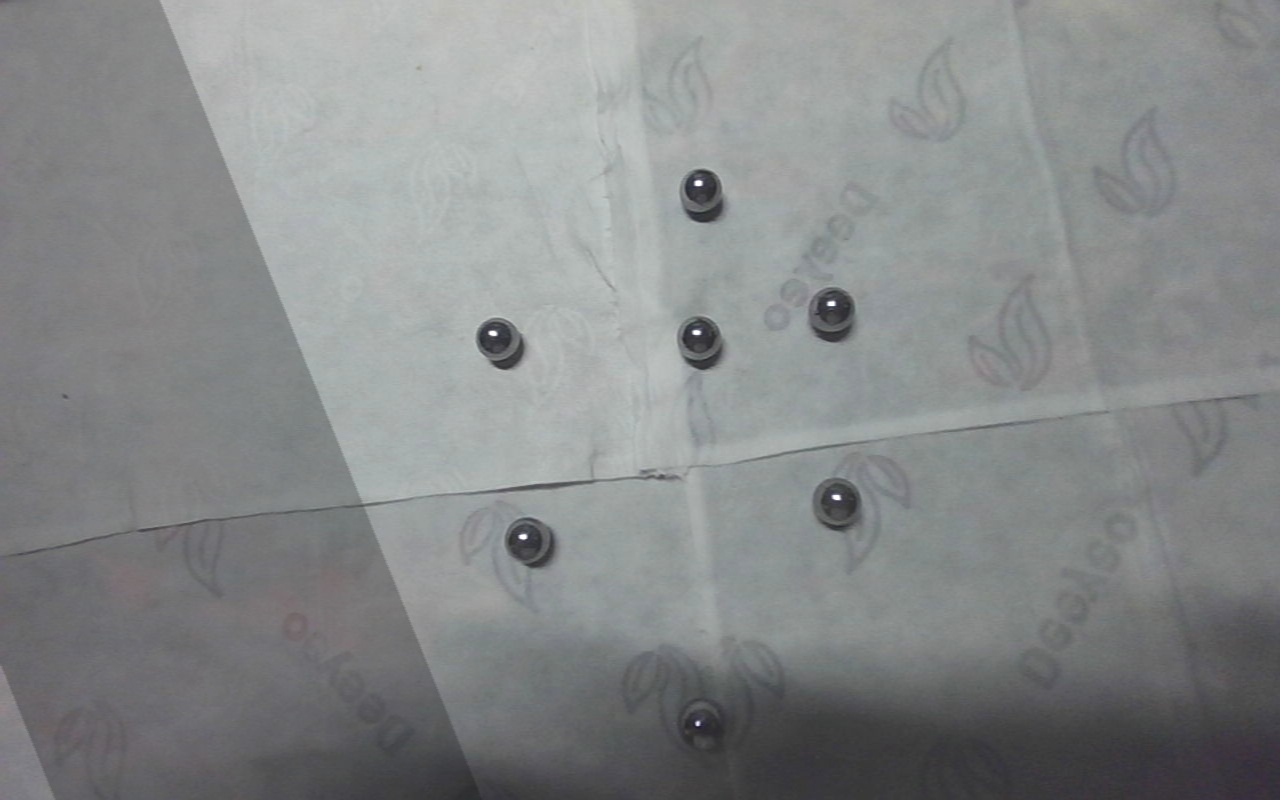ball: (810, 474, 864, 529), (502, 514, 555, 567), (675, 312, 726, 366), (807, 284, 856, 338), (678, 699, 727, 753), (475, 314, 524, 365), (679, 166, 725, 219)
